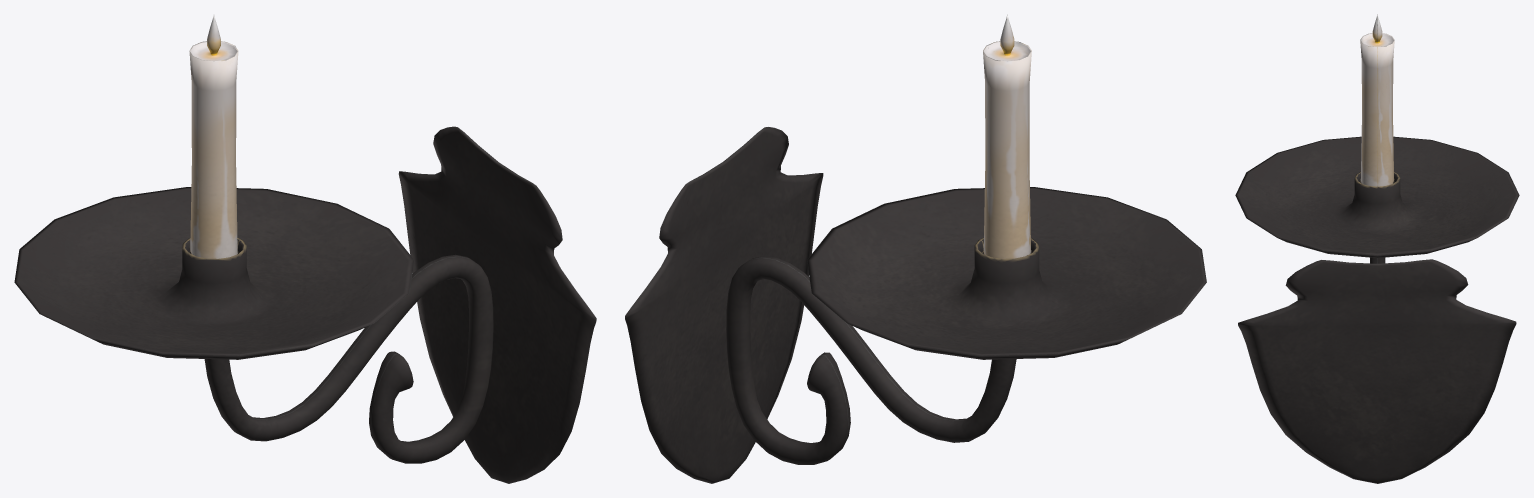
Rendered from wall_candles.glb.
The picture shows the model from 3 angles, left to right: view 1: azimuth 30°, elevation 25°; view 2: azimuth 150°, elevation 25°; view 3: azimuth 270°, elevation 25°; orthographic projection. The views are drawn at different scales.
Visible parts, largest first — view 1: Base_0; view 2: Base_0; view 3: Base_0.
Part boxes in pixels (x1,y1,x2,y2): Base_0: (14,15,596,483); Base_0: (625,14,1206,483); Base_0: (1235,14,1519,483).
Size of the model in its own units: 2.38 by 2.62 by 1.8.
1 material, 1 textured.
